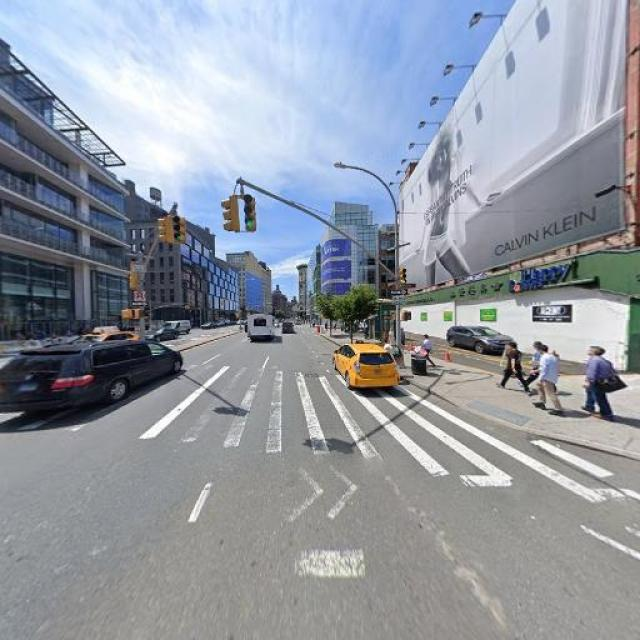Building: (399, 1, 640, 379), (1, 85, 124, 349)
